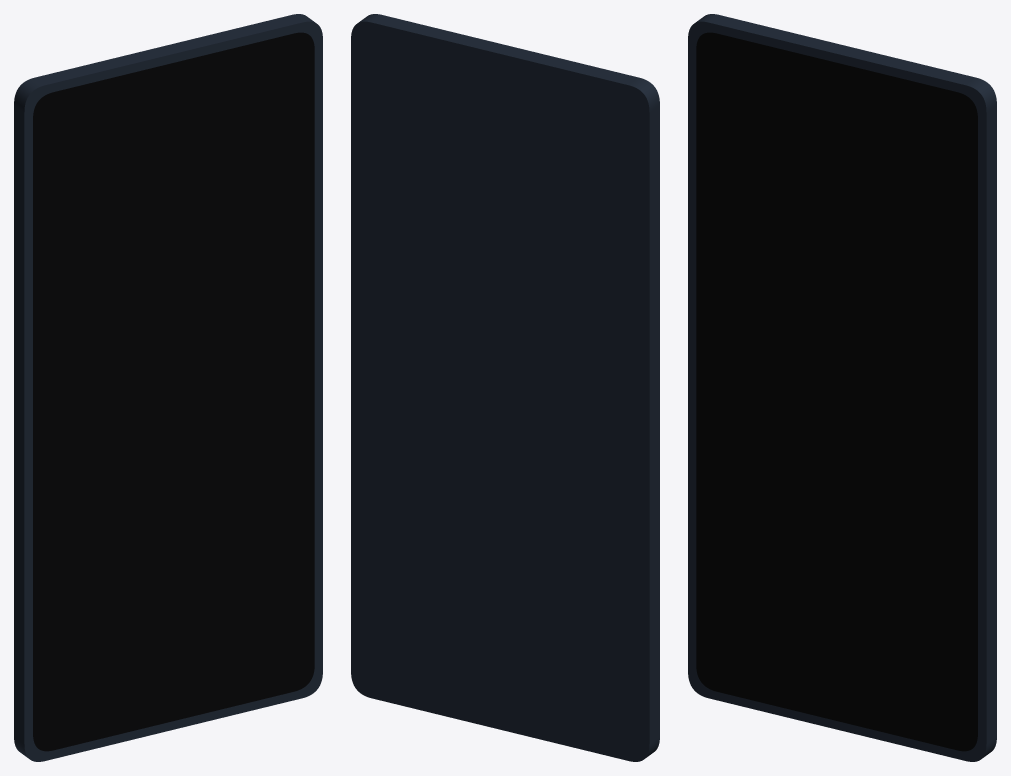
File: apple-iphone-14-plus.glb
The picture shows the model from 3 angles, left to right: view 1: azimuth 30°, elevation 25°; view 2: azimuth 150°, elevation 25°; view 3: azimuth 330°, elevation 25°; orthographic projection.
Parts seen in each view (by area): view 1: Screen, Body; view 2: Body; view 3: Screen, Body.
Boxes of the visible parts, x1,y1,x2,y2 form: Screen: (33,32,314,751); Body: (14,14,322,761); Body: (351,14,659,761); Screen: (696,32,977,751); Body: (688,14,996,761).
Size of the model in its own units: 0.107 by 0.2315 by 0.0066.
